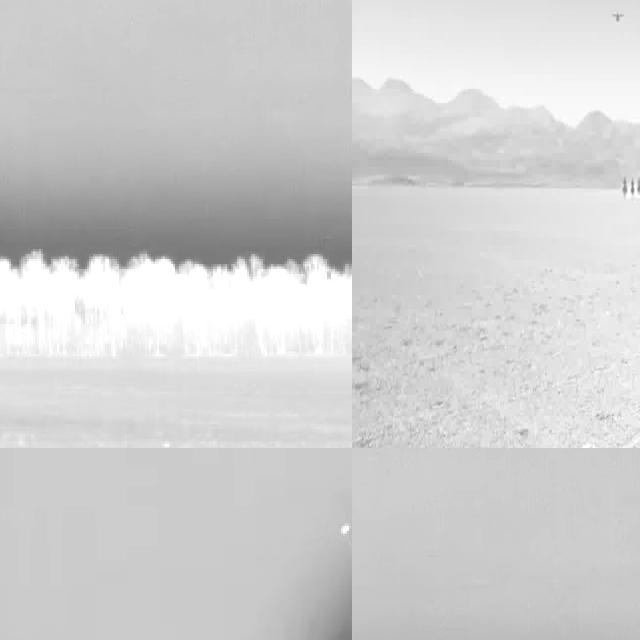0: (331, 516, 352, 541)
drone: (607, 4, 627, 28)
